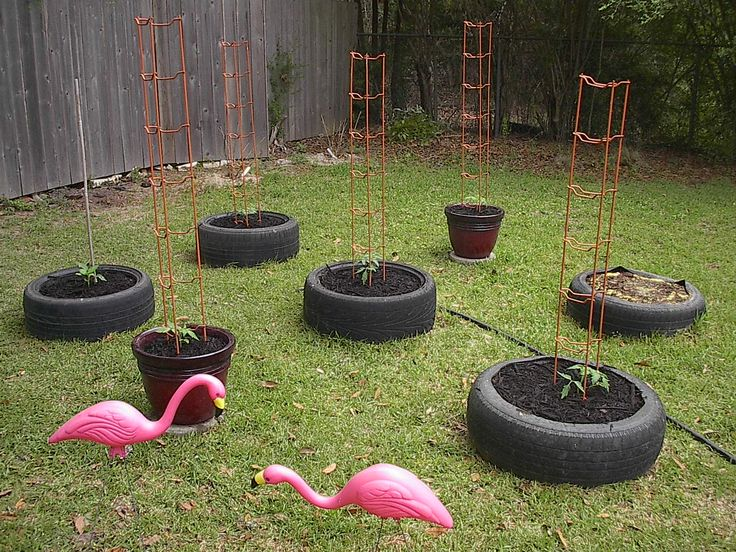tire: (466, 355, 666, 483), (303, 262, 435, 341), (569, 268, 707, 338), (23, 265, 154, 337), (196, 211, 300, 266)
